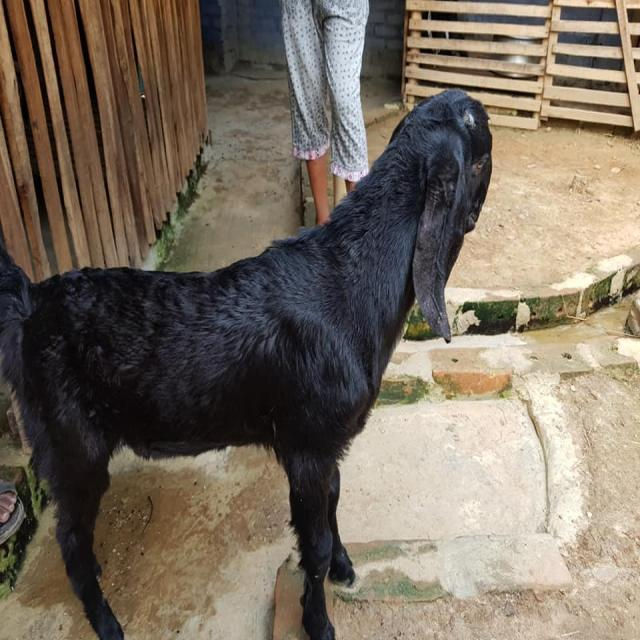Goat: (0, 86, 493, 639)
